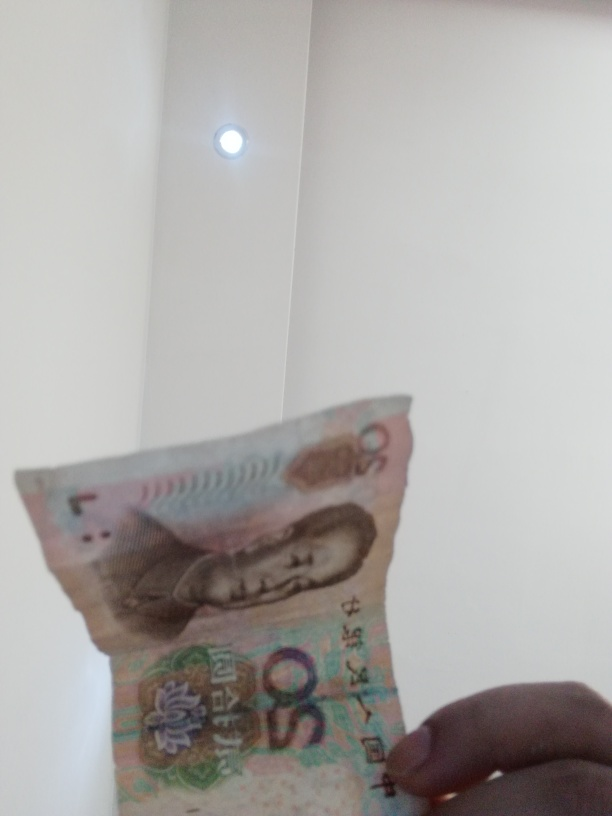rmb: (4, 392, 432, 816)
